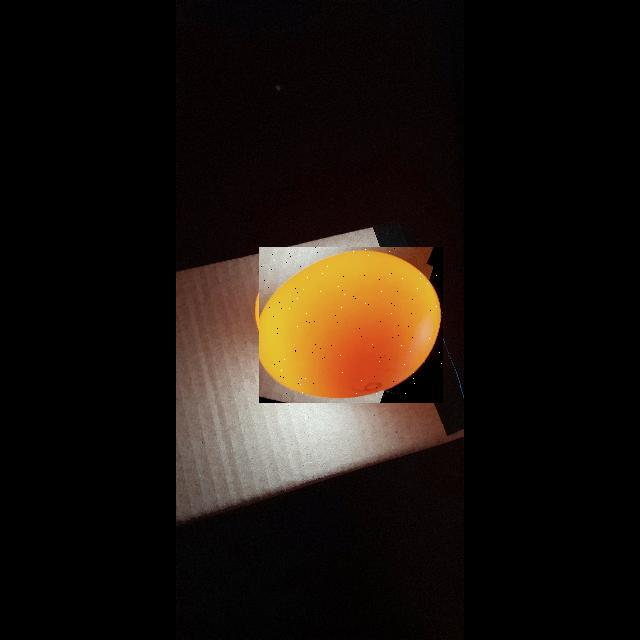Fertile: (259, 247, 443, 403)
